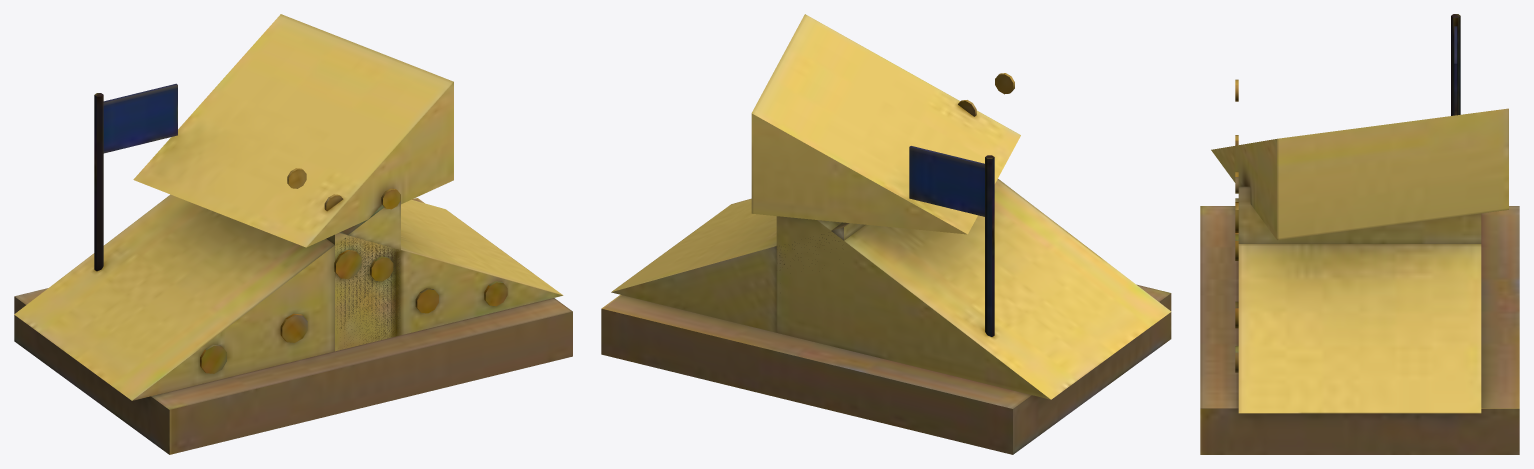
The model's file is cuna_queso.glb.
3 renders of one model, left to right at view 1: azimuth 30°, elevation 25°; view 2: azimuth 150°, elevation 25°; view 3: azimuth 270°, elevation 25°, orthographic. The views are drawn at different scales.
Visible parts, largest first — view 1: cuna_queso; view 2: cuna_queso; view 3: cuna_queso.
Part boxes in pixels (<box>): cuna_queso: <box>14,14,572,454</box>; cuna_queso: <box>601,14,1171,454</box>; cuna_queso: <box>1200,14,1519,454</box>.
Size of the model in its own units: 1.61 by 0.95 by 1.
Materials: 1 (1 with a texture image).
